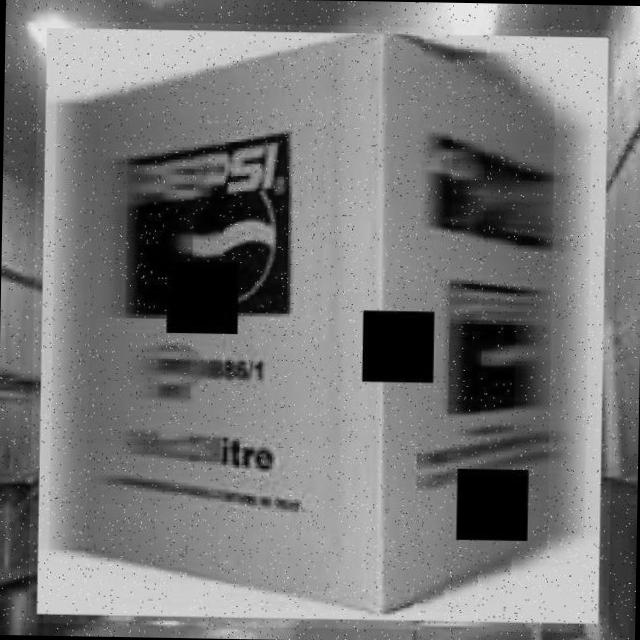box: (27, 20, 618, 632)
